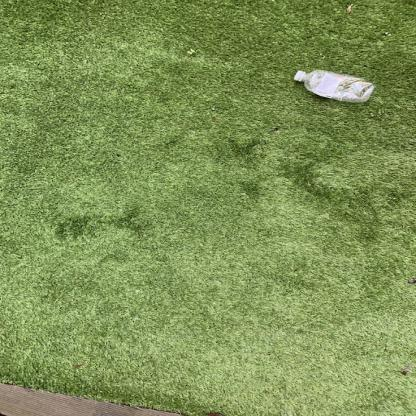trash: (292, 68, 374, 104)
